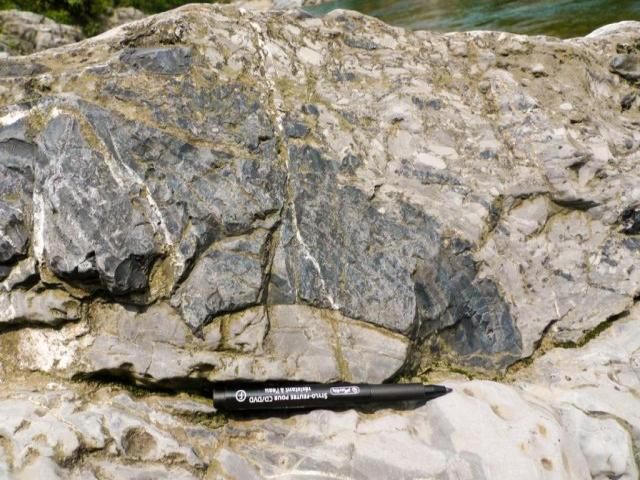PEN: (198, 376, 458, 419)
